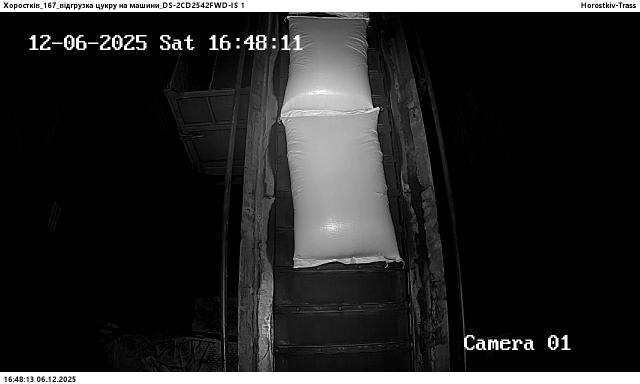bag: (282, 108, 402, 268), (282, 18, 373, 116)
